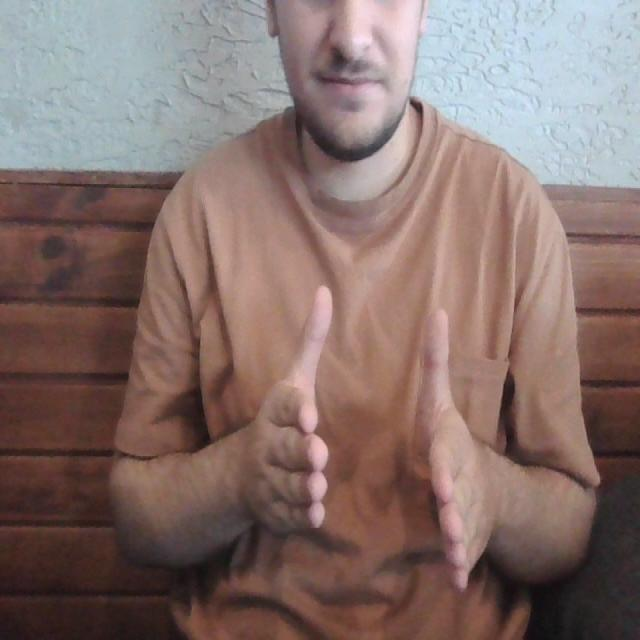Nasil: (232, 270, 509, 614)
